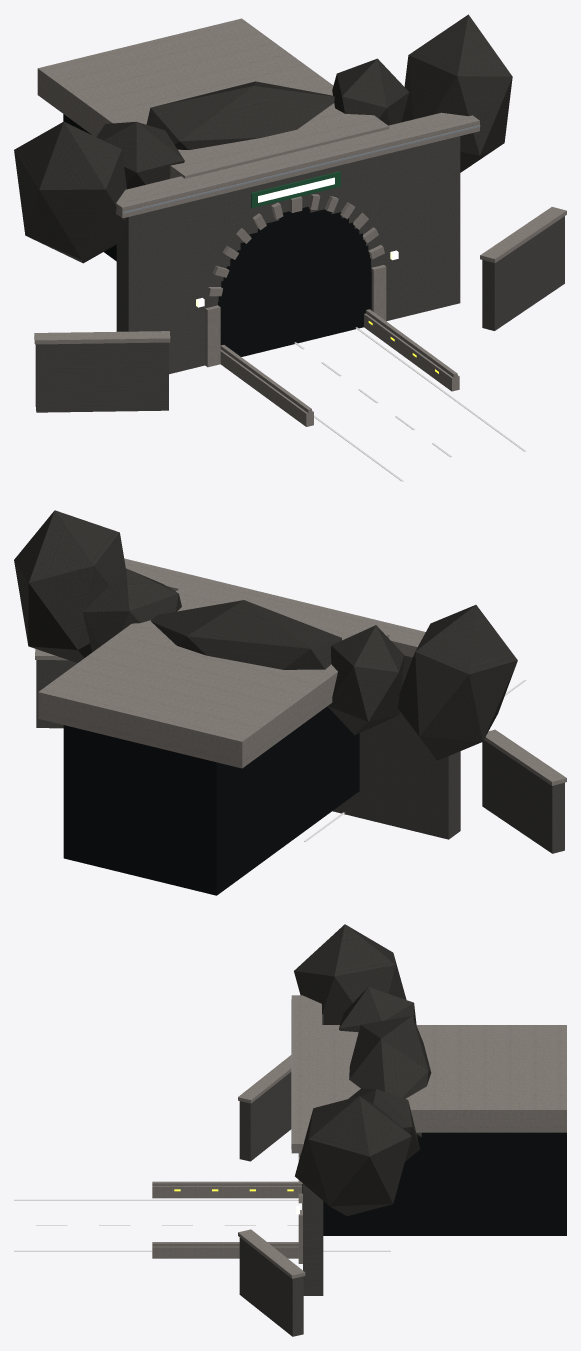
Rendered from OT_TunnelPortal.glb.
3 renders of one model, top to bottom at view 1: azimuth 30°, elevation 25°; view 2: azimuth 150°, elevation 25°; view 3: azimuth 270°, elevation 25°, orthographic. The views are drawn at different scales.
Visible parts, largest first — view 1: OT_TunnelPortal_Stone, OT_TunnelPortal_Concrete, OT_TunnelPortal_Rock, OT_TunnelPortal_TunnelDark__0b0c0e, OT_TunnelPortal_TunnelSign__1f5a3a, OT_TunnelPortal_PaintWhite__f0f0ee, OT_TunnelPortal_Trim__8e959c, OT_TunnelPortal_SignWhiteGlow__f4f8ff; view 2: OT_TunnelPortal_Rock, OT_TunnelPortal_TunnelDark__0b0c0e, OT_TunnelPortal_Concrete, OT_TunnelPortal_Stone; view 3: OT_TunnelPortal_Concrete, OT_TunnelPortal_Rock, OT_TunnelPortal_TunnelDark__0b0c0e, OT_TunnelPortal_Stone, OT_TunnelPortal_PaintWhite__f0f0ee.
Part boxes in pixels (x1=…): OT_TunnelPortal_Stone: x1=35, y1=136, x2=564, y2=412; OT_TunnelPortal_Concrete: x1=34, y1=18, x2=566, y2=426; OT_TunnelPortal_Rock: x1=14, y1=14, x2=512, y2=263; OT_TunnelPortal_TunnelDark__0b0c0e: x1=63, y1=114, x2=371, y2=356; OT_TunnelPortal_TunnelSign__1f5a3a: x1=251, y1=171, x2=340, y2=208; OT_TunnelPortal_PaintWhite__f0f0ee: x1=294, y1=327, x2=525, y2=481; OT_TunnelPortal_Trim__8e959c: x1=122, y1=125, x2=480, y2=213; OT_TunnelPortal_SignWhiteGlow__f4f8ff: x1=258, y1=177, x2=334, y2=202; OT_TunnelPortal_Rock: x1=14, y1=510, x2=517, y2=760; OT_TunnelPortal_TunnelDark__0b0c0e: x1=63, y1=706, x2=359, y2=895; OT_TunnelPortal_Concrete: x1=35, y1=558, x2=566, y2=785; OT_TunnelPortal_Stone: x1=36, y1=654, x2=564, y2=853; OT_TunnelPortal_Concrete: x1=152, y1=995, x2=566, y2=1278; OT_TunnelPortal_Rock: x1=294, y1=924, x2=431, y2=1216; OT_TunnelPortal_TunnelDark__0b0c0e: x1=302, y1=1132, x2=566, y2=1235; OT_TunnelPortal_Stone: x1=239, y1=1014, x2=323, y2=1336; OT_TunnelPortal_PaintWhite__f0f0ee: x1=14, y1=1199, x2=390, y2=1251.
Bounding box in the file's own units: 41.69 × 19.05 × 44.
11 materials, 3 textured.
